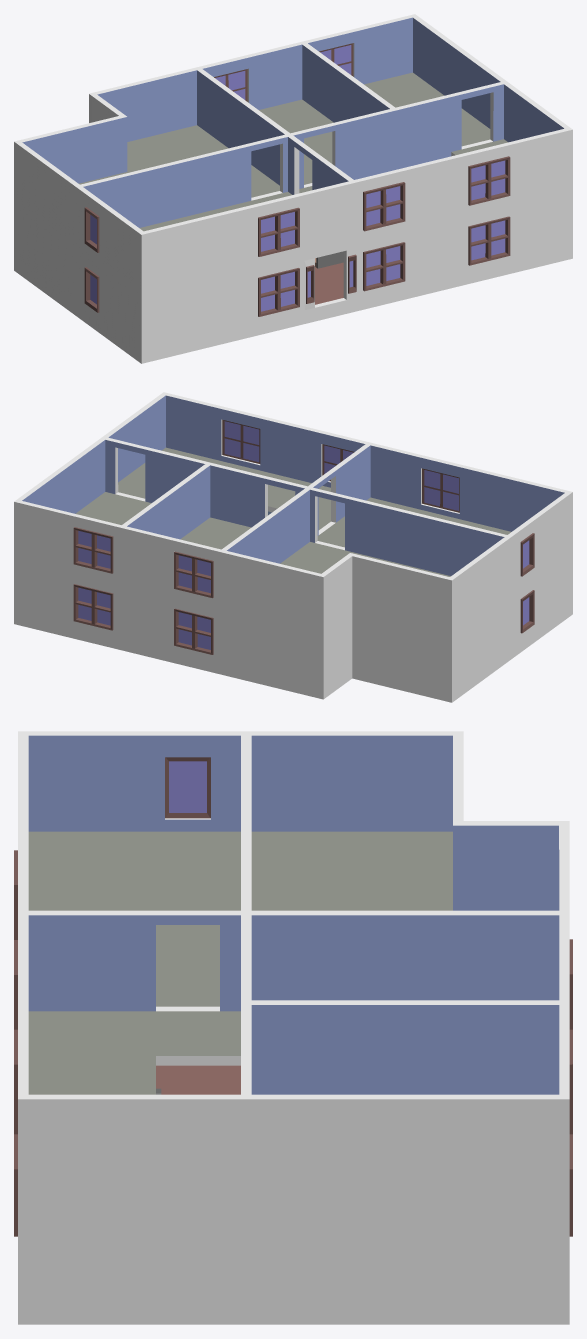
The model's file is House (1).fbx.
3 views of the same model, one above another, from view 1: azimuth 30°, elevation 25°; view 2: azimuth 150°, elevation 25°; view 3: azimuth 270°, elevation 25° (orthographic). The views are drawn at different scales.
Parts seen in each view (by area): view 1: Floor_2, Floor_1; view 2: Floor_2, Floor_1; view 3: Floor_2, Floor_1.
Boxes of the visible parts, x1,y1,x2,y2 form: Floor_2: (14, 14, 572, 294); Floor_1: (14, 190, 572, 363); Floor_2: (14, 392, 572, 637); Floor_1: (14, 511, 572, 702); Floor_2: (14, 731, 572, 1204); Floor_1: (14, 1065, 572, 1324).
Size of the model in its own units: 1647 by 469 by 1053.
